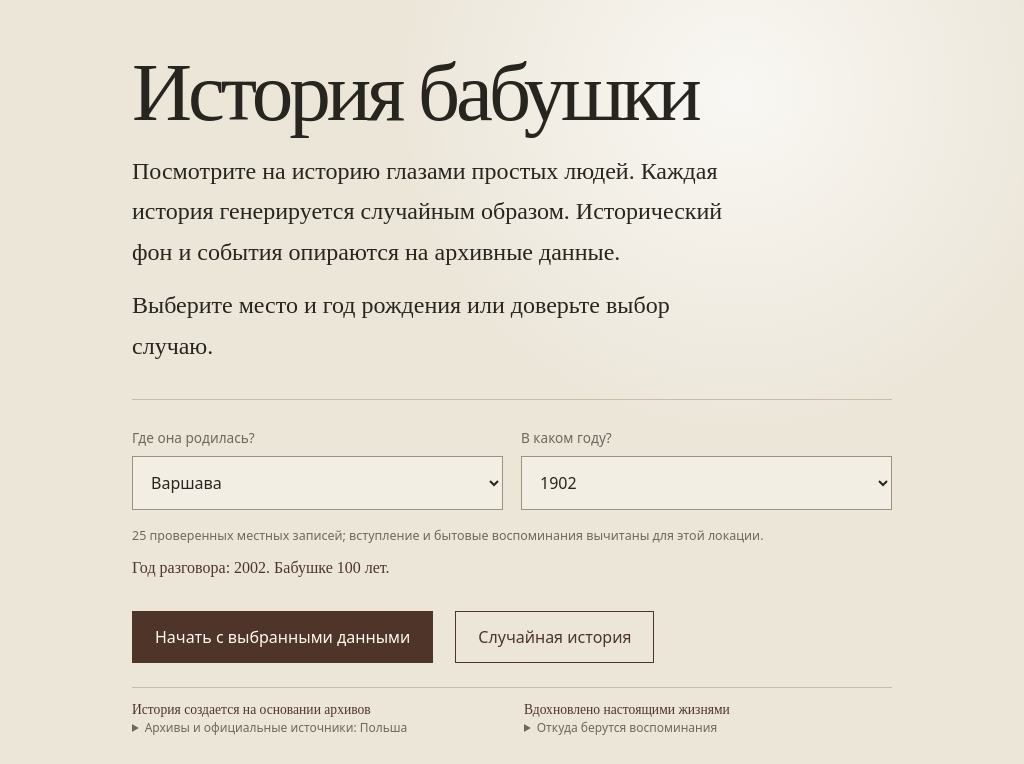
accessible vertical slice › uses the selected place and caps a 1927 interview at the current year
Select "Москва" in the dropdown labelled "Где она родилась?" at {"x": 318, "y": 482}, box [132,456,503,510]
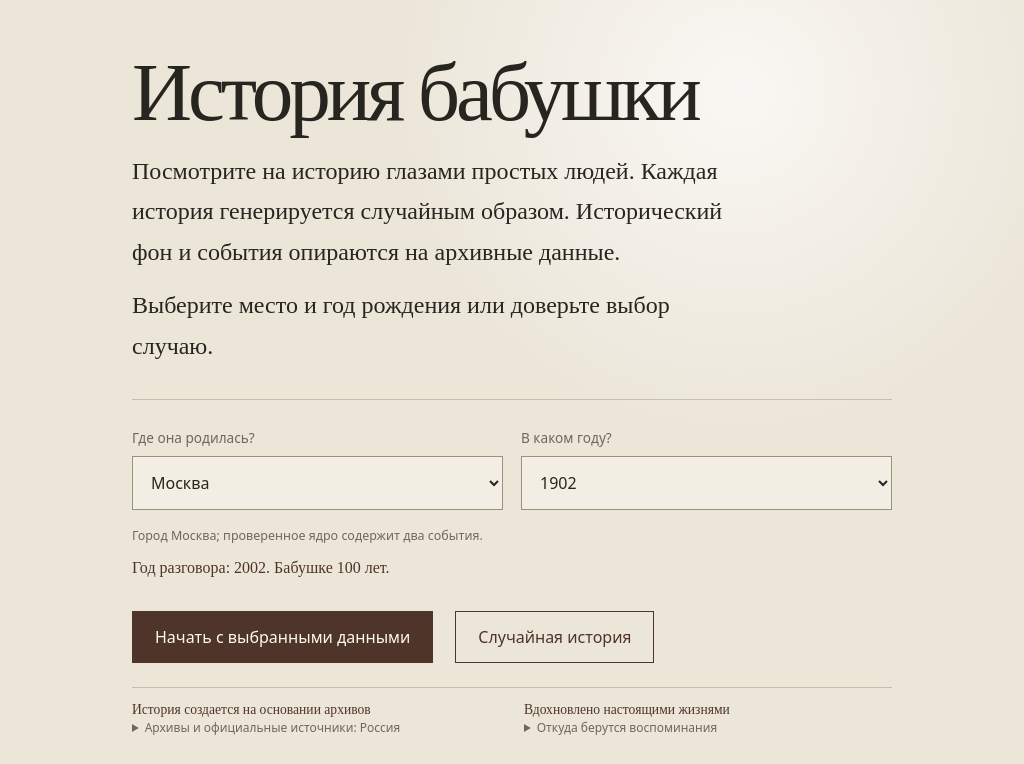
Select "1927" in the dropdown labelled "В каком году?" at {"x": 706, "y": 482}, box [521,456,892,510]
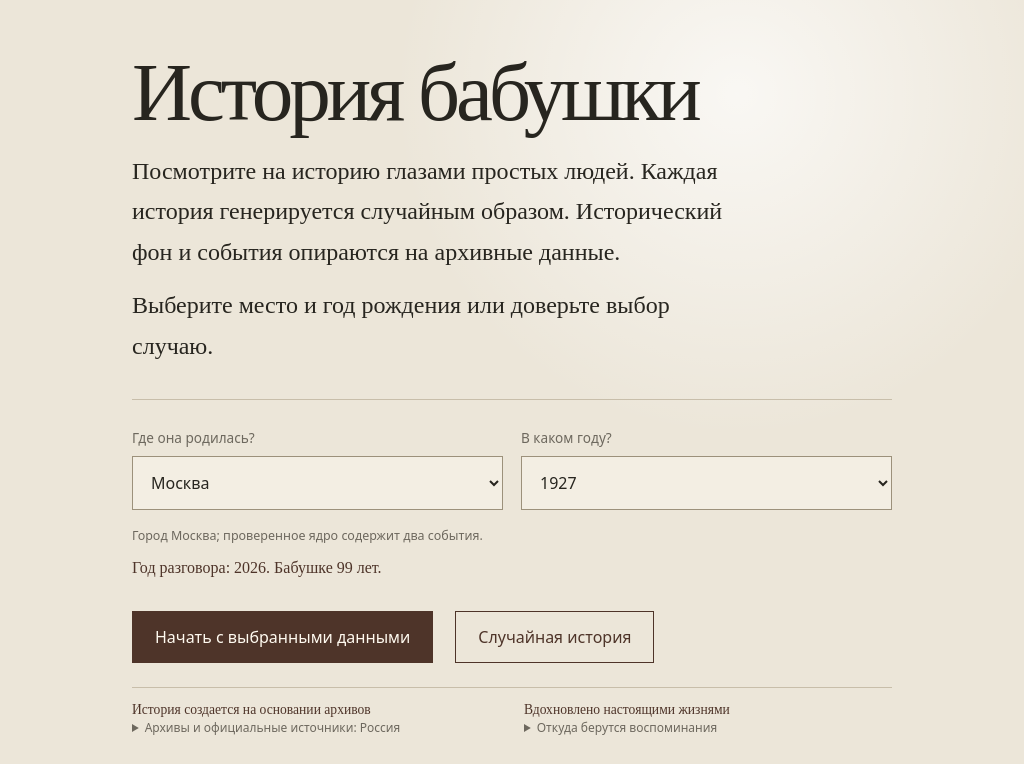
Expected: the text "Год разговора: 2026. Бабушке 99 лет." is shown, [132,559,382,576]
Click the button "Начать с выбранными данными" at {"x": 283, "y": 637}, box [132,611,433,663]
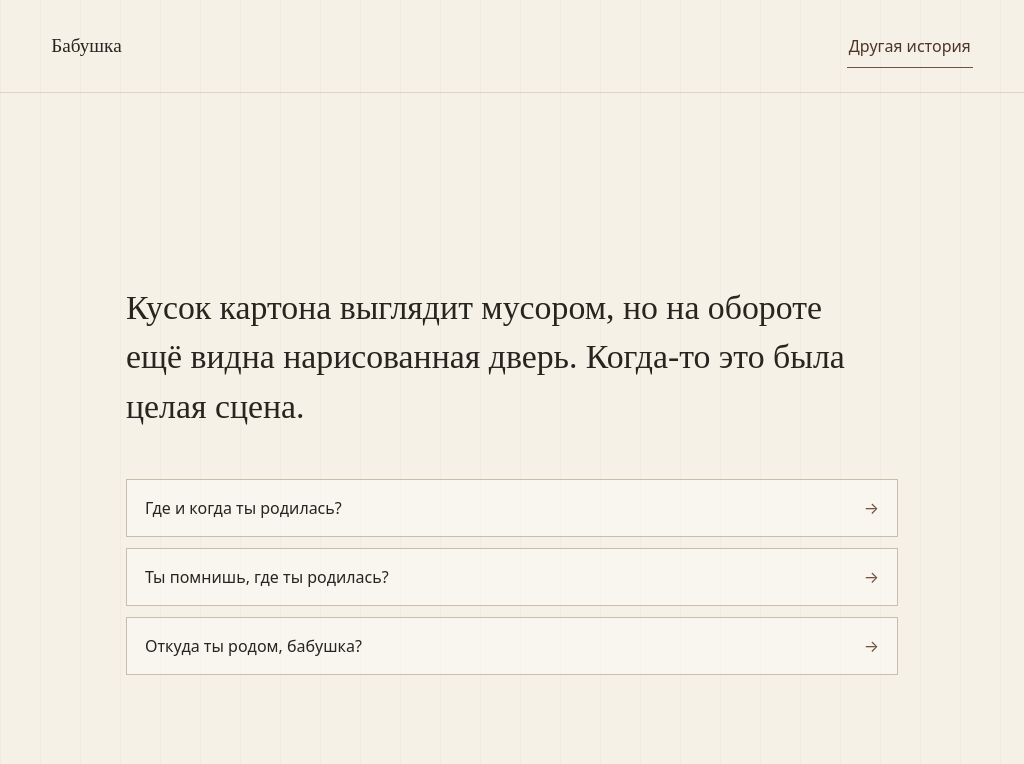
Expected: the element named "Что спросить" shows "Где и когда ты родилась?"
Click the button "Где и когда ты родилась?" at {"x": 243, "y": 508}, box [126,479,898,537]
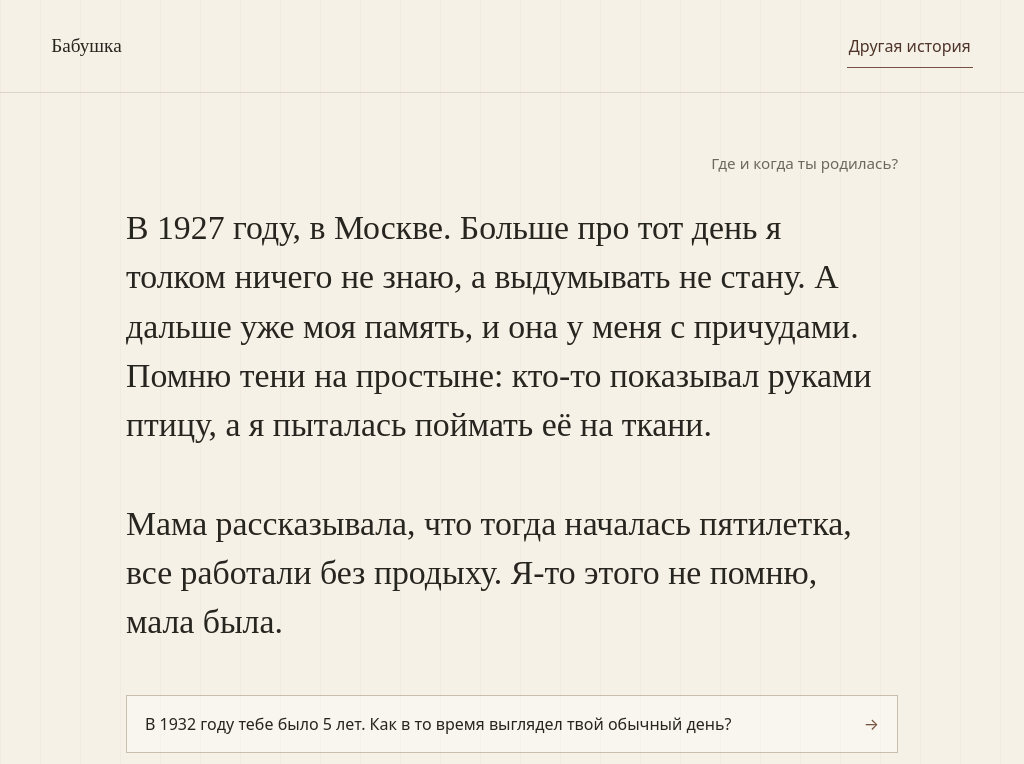
Expected: the element named "Последний вопрос и ответ" shows "1927", [126,209,872,640]
